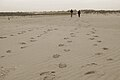human_footprint: (40, 71, 55, 79), (81, 62, 97, 67), (58, 63, 66, 67), (52, 54, 60, 57), (58, 43, 64, 46), (0, 36, 6, 38), (102, 47, 108, 49), (64, 49, 70, 51), (67, 40, 71, 42), (89, 38, 94, 39)
